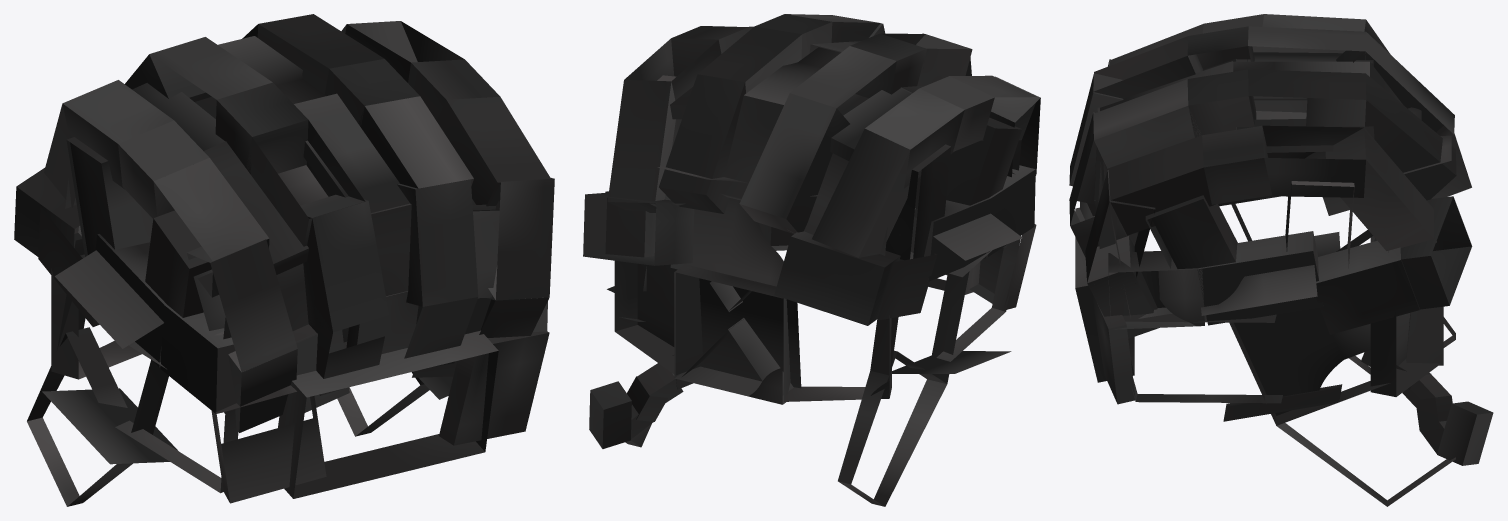
The model's file is tshfour_h.obj.
The picture shows the model from 3 angles, left to right: view 1: azimuth 30°, elevation 25°; view 2: azimuth 150°, elevation 25°; view 3: azimuth 270°, elevation 25°; orthographic projection. The views are drawn at different scales.
Parts seen in each view (by area): view 1: cube; view 2: cube; view 3: cube.
Part boxes in pixels (left/top/right/bottom): cube: left=14, top=14, right=554, bottom=506; cube: left=583, top=14, right=1040, bottom=506; cube: left=1069, top=14, right=1493, bottom=506.
Size of the model in its own units: 0.8029 by 0.8478 by 0.8438.
